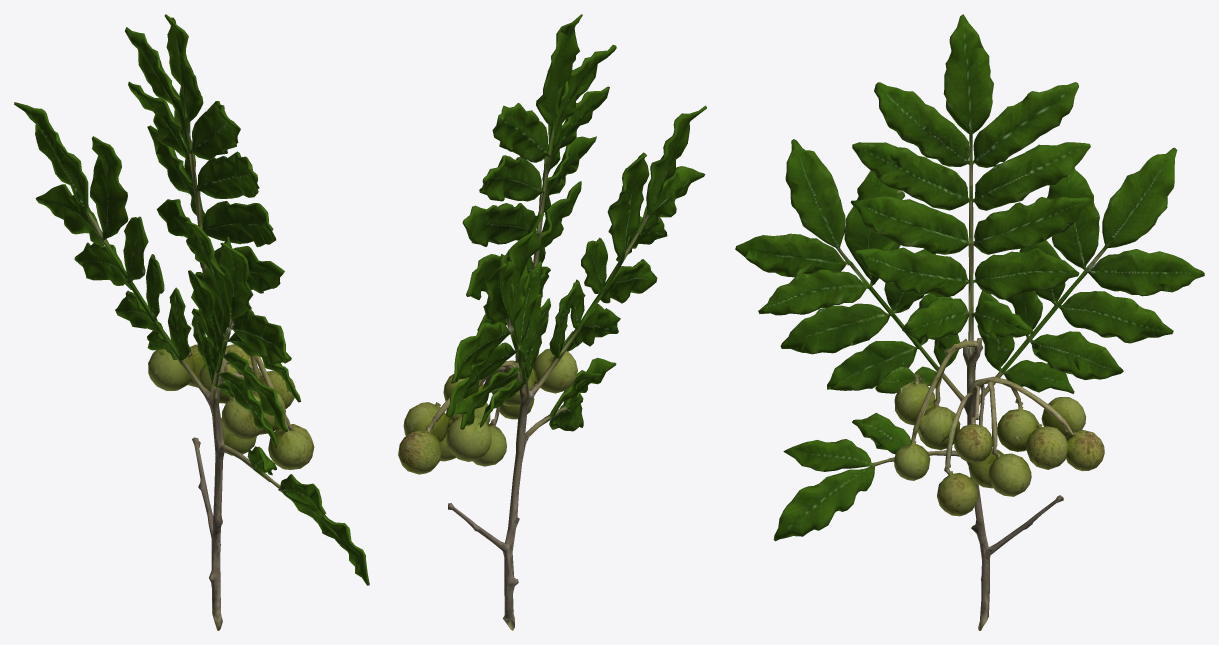
Rendered from planta_1.fbx.
3 renders of one model, left to right at view 1: azimuth 30°, elevation 25°; view 2: azimuth 150°, elevation 25°; view 3: azimuth 270°, elevation 25°, orthographic. The views are drawn at different scales.
Parts seen in each view (by area): view 1: tripo_node_d6cb8e60; view 2: tripo_node_d6cb8e60; view 3: tripo_node_d6cb8e60.
Part boxes in pixels (box(x1,y1,x2,y2)): tripo_node_d6cb8e60: box(14, 14, 369, 630); tripo_node_d6cb8e60: box(398, 14, 706, 630); tripo_node_d6cb8e60: box(735, 14, 1204, 630).
Bounding box in the file's own units: 4.16 × 14.11 × 10.19.
Materials: 1 (1 with a texture image).
